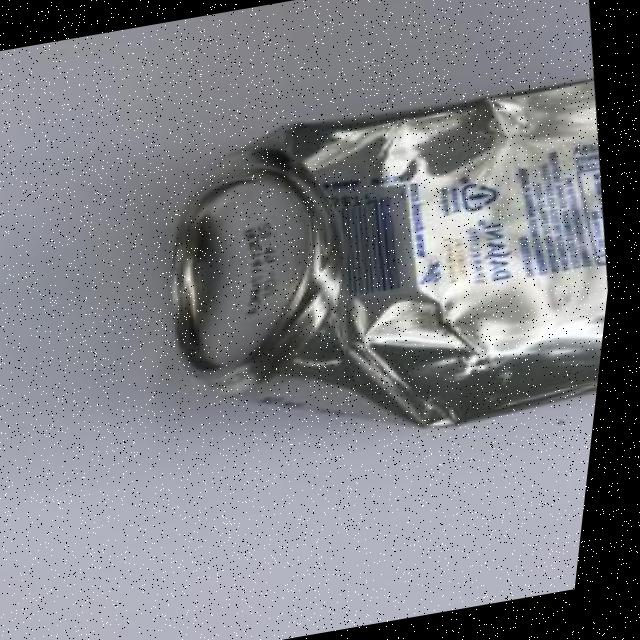metal: (126, 68, 634, 475)
